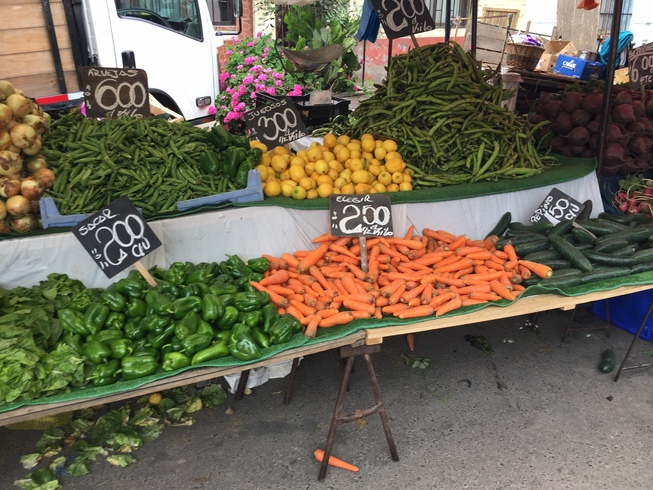precio: (70, 195, 164, 282), (235, 94, 322, 156), (530, 185, 602, 255), (332, 187, 408, 243), (88, 68, 155, 128), (366, 1, 440, 41), (627, 44, 653, 92)
